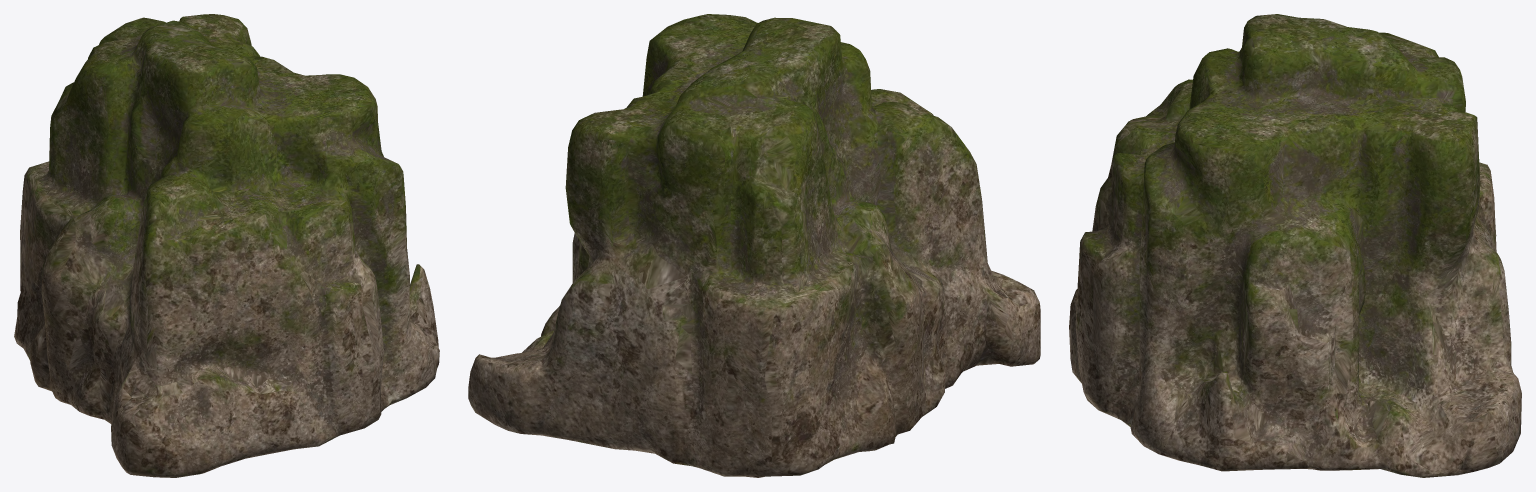
File: fd-rock.glb
3 renders of one model, left to right at view 1: azimuth 30°, elevation 25°; view 2: azimuth 150°, elevation 25°; view 3: azimuth 270°, elevation 25°, orthographic. The views are drawn at different scales.
Visible parts, largest first — view 1: Mossy Rock; view 2: Mossy Rock; view 3: Mossy Rock.
Boxes of the visible parts, box(x1,y1,x2,y2) form: Mossy Rock: box(14, 14, 439, 477); Mossy Rock: box(468, 14, 1040, 477); Mossy Rock: box(1069, 14, 1521, 477).
Size of the model in its own units: 0.9239 by 0.7974 by 0.949.
Materials: 1 (1 with a texture image).
